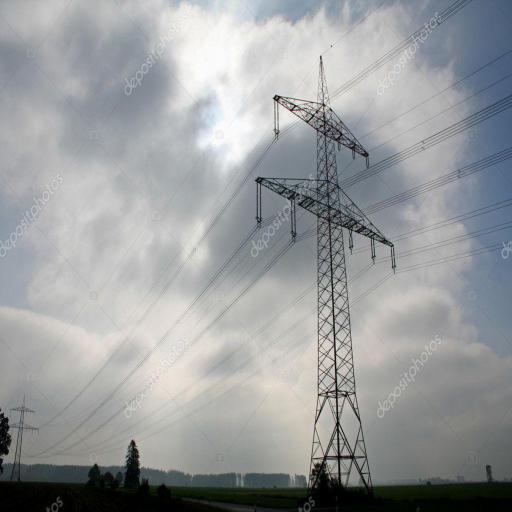ss_2: (252, 53, 395, 511), (6, 396, 38, 487)
